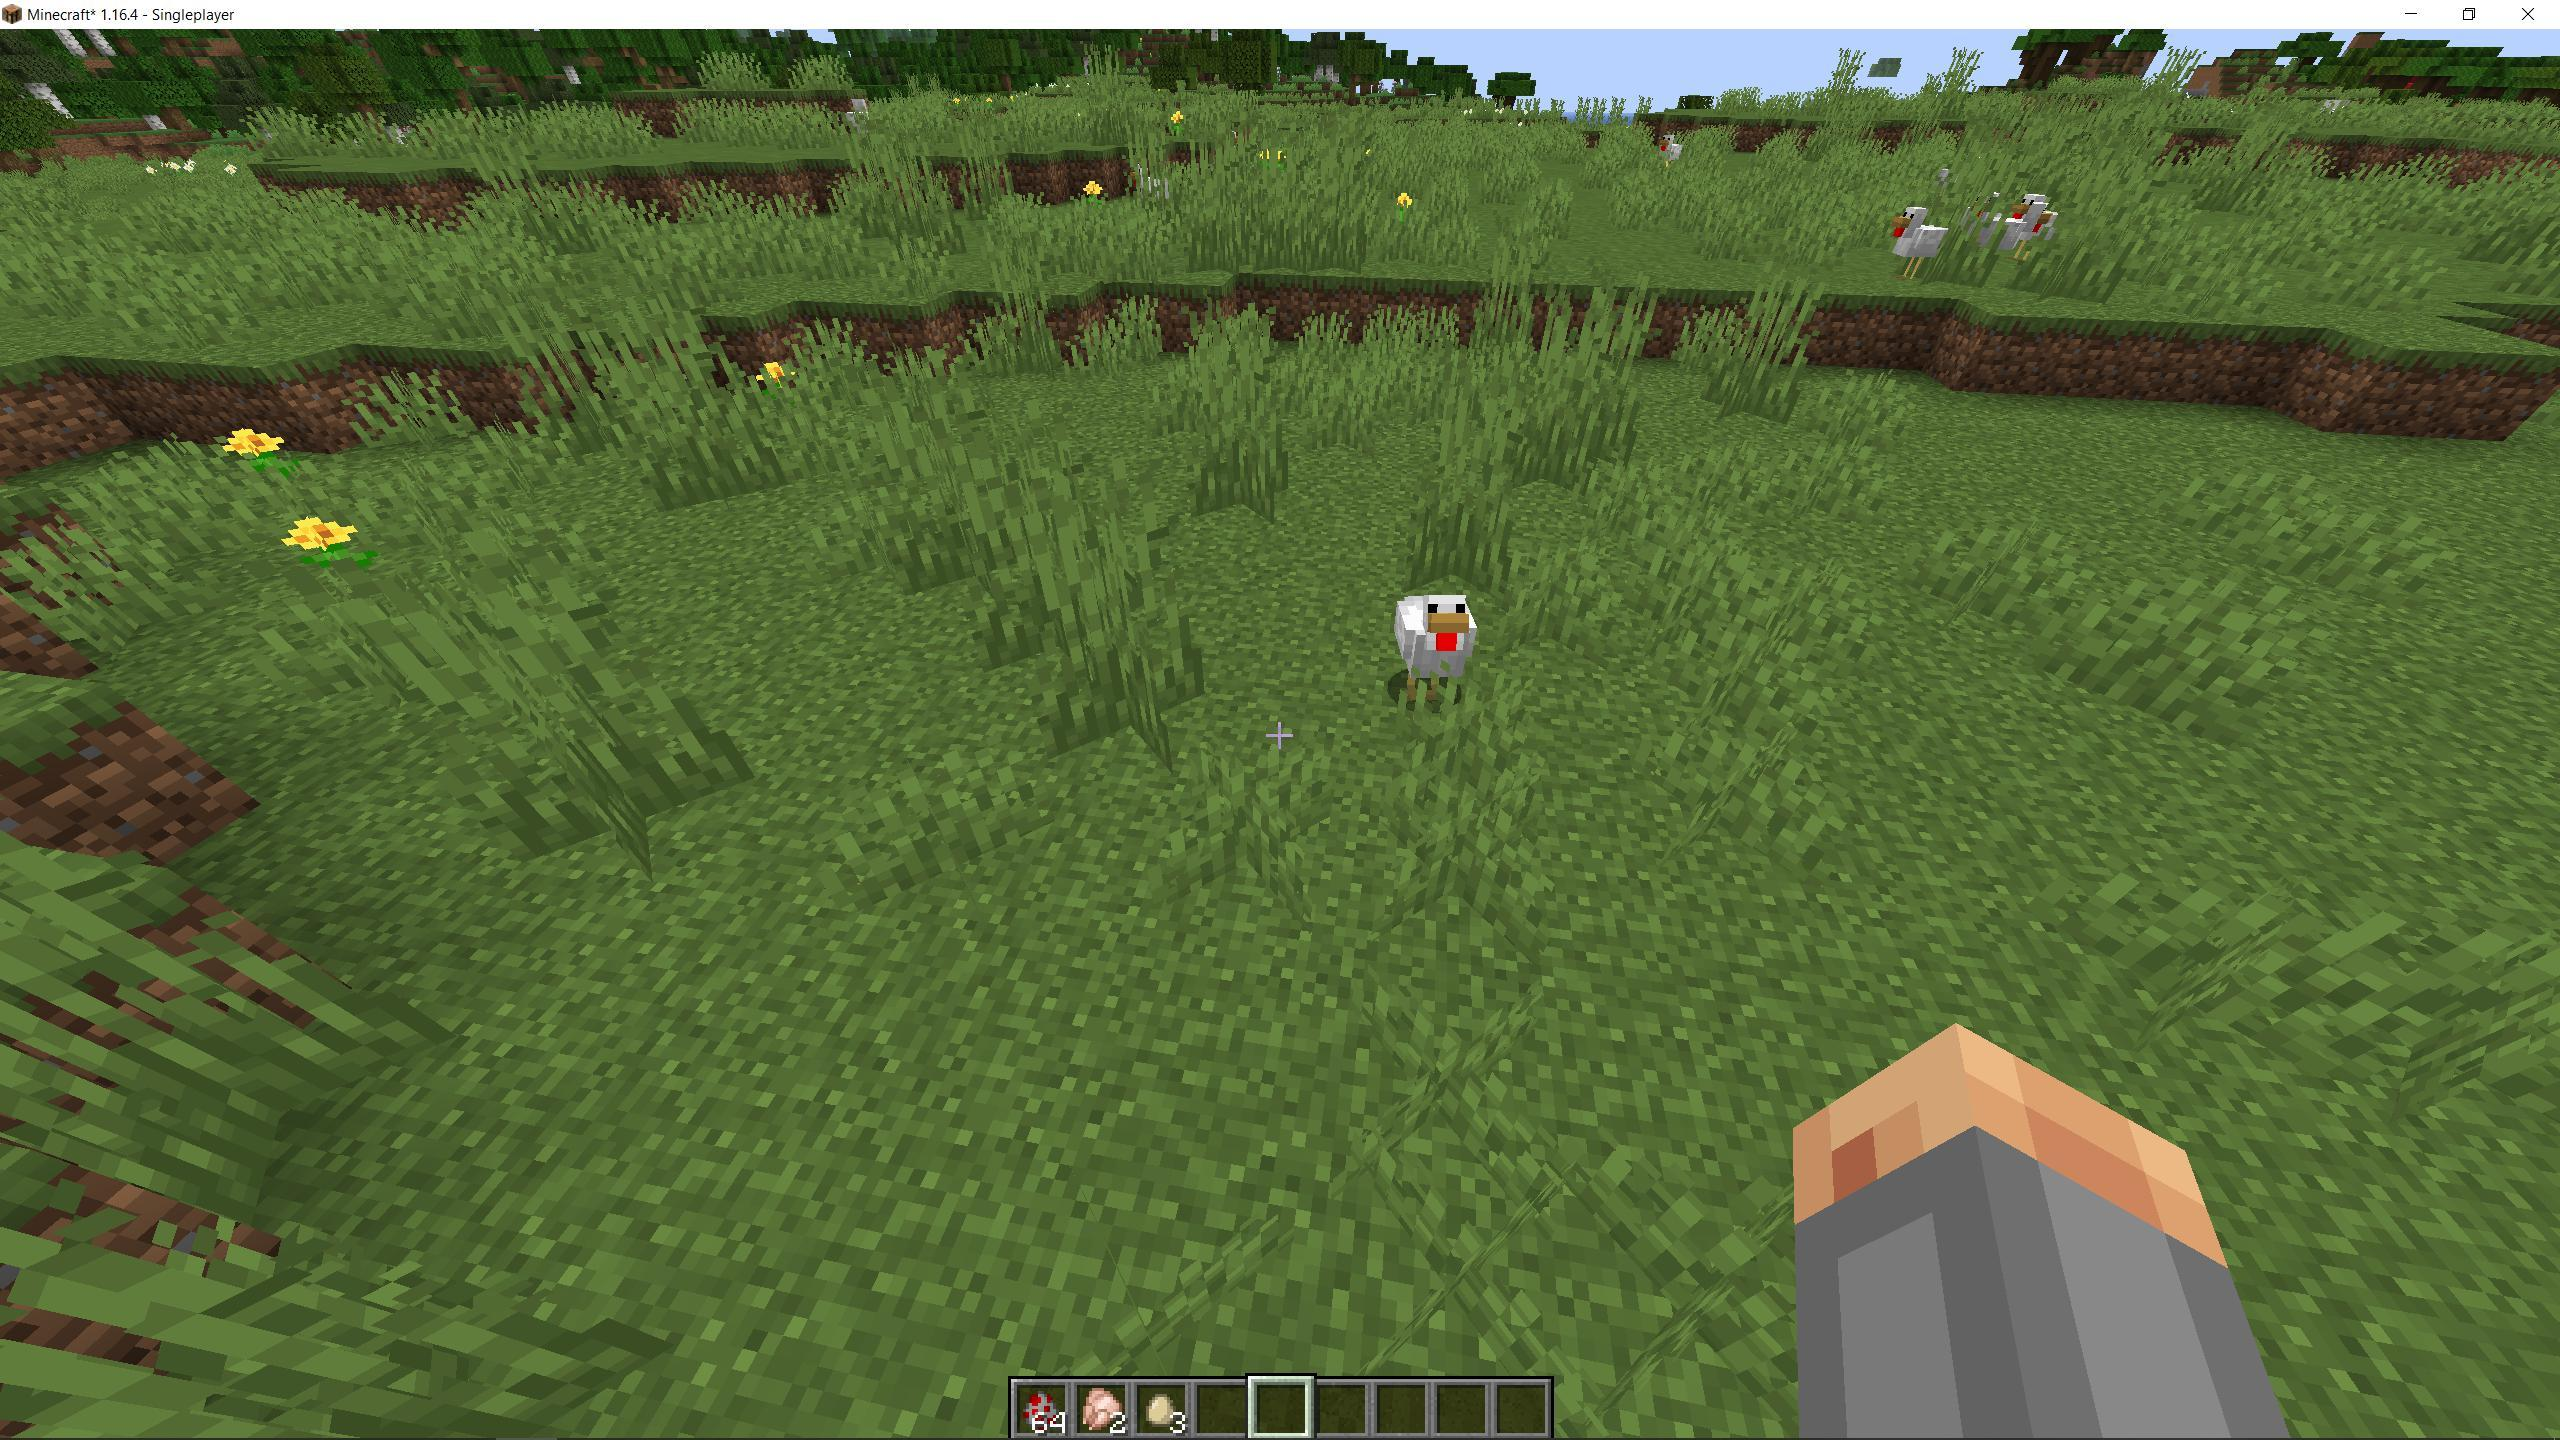chicken: (1387, 589, 1475, 702), (1978, 207, 2057, 274), (1880, 202, 1945, 281), (1655, 123, 1686, 185)
